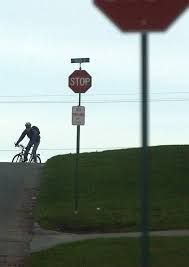stop_sign: (92, 2, 186, 32), (68, 69, 92, 93)
